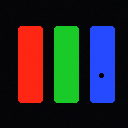0 point: (99, 73, 103, 77)
